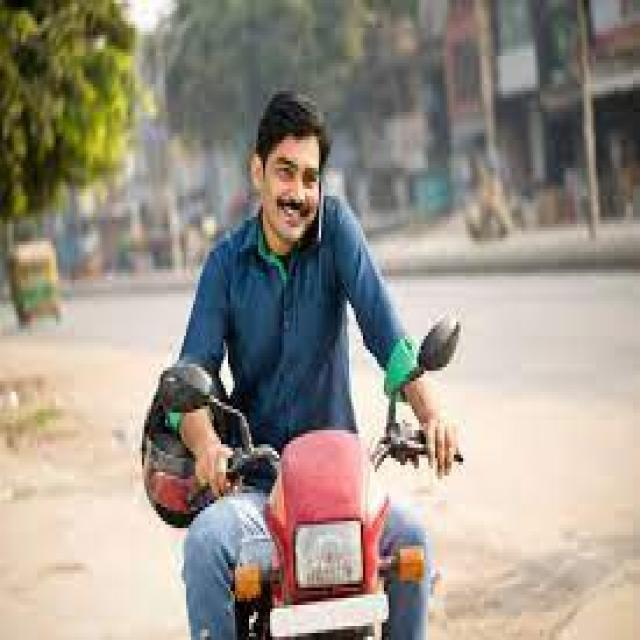Using mobile: (202, 87, 417, 417)
